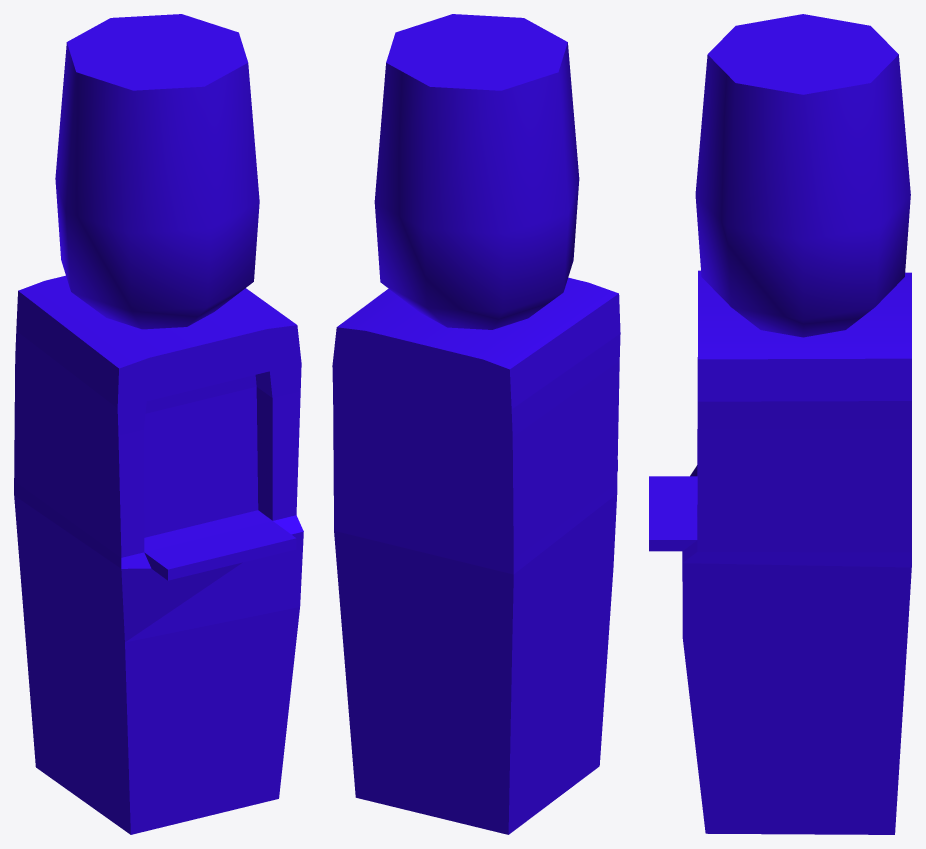
The model's file is office_pack_waterDispenser_1_meshCollider.fbx.
3 views of the same model, side by side, from view 1: azimuth 30°, elevation 25°; view 2: azimuth 150°, elevation 25°; view 3: azimuth 270°, elevation 25° (orthographic).
Visible parts, largest first — view 1: office_pack_waterDispenser_1_meshCollider; view 2: office_pack_waterDispenser_1_meshCollider; view 3: office_pack_waterDispenser_1_meshCollider.
Boxes of the visible parts, x1=… form: office_pack_waterDispenser_1_meshCollider: x1=14, y1=14, x2=303, y2=834; office_pack_waterDispenser_1_meshCollider: x1=332, y1=14, x2=620, y2=834; office_pack_waterDispenser_1_meshCollider: x1=649, y1=14, x2=911, y2=834.
Size of the model in its own units: 26.94 by 102 by 32.71.
